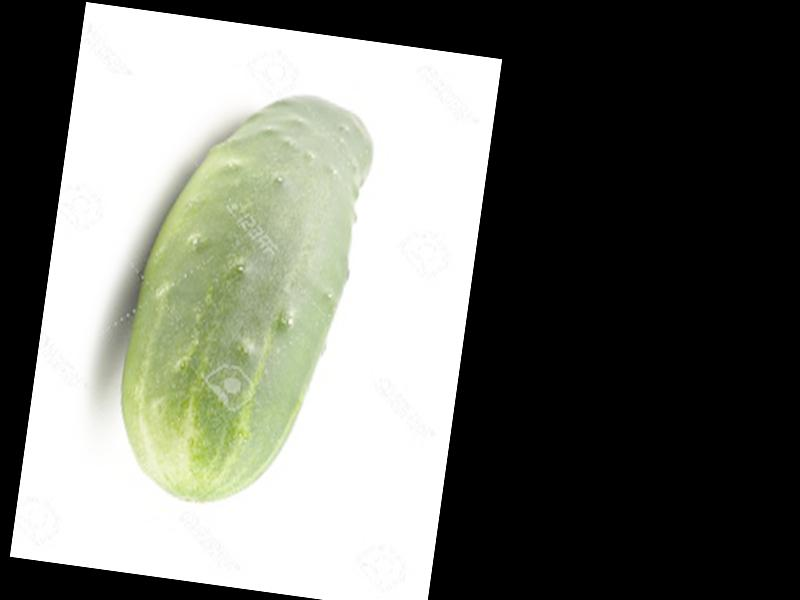Cucumber: (104, 74, 379, 520)
